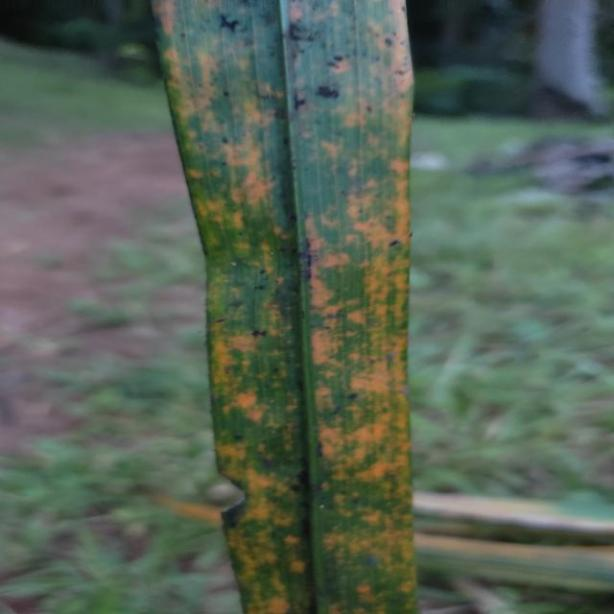Kalium: (157, 1, 419, 614)
